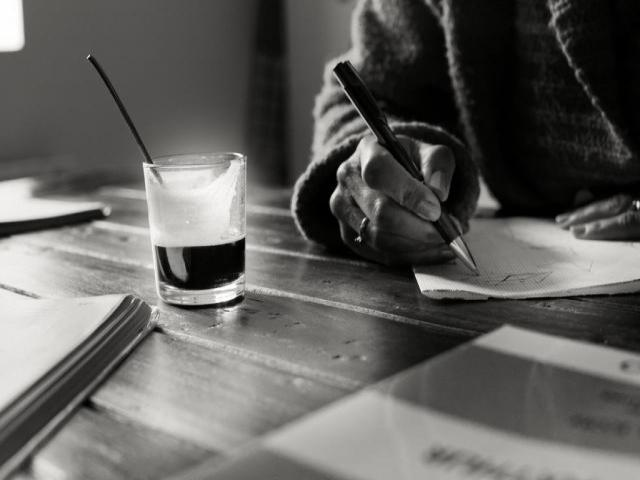PEN: (329, 59, 482, 281)
